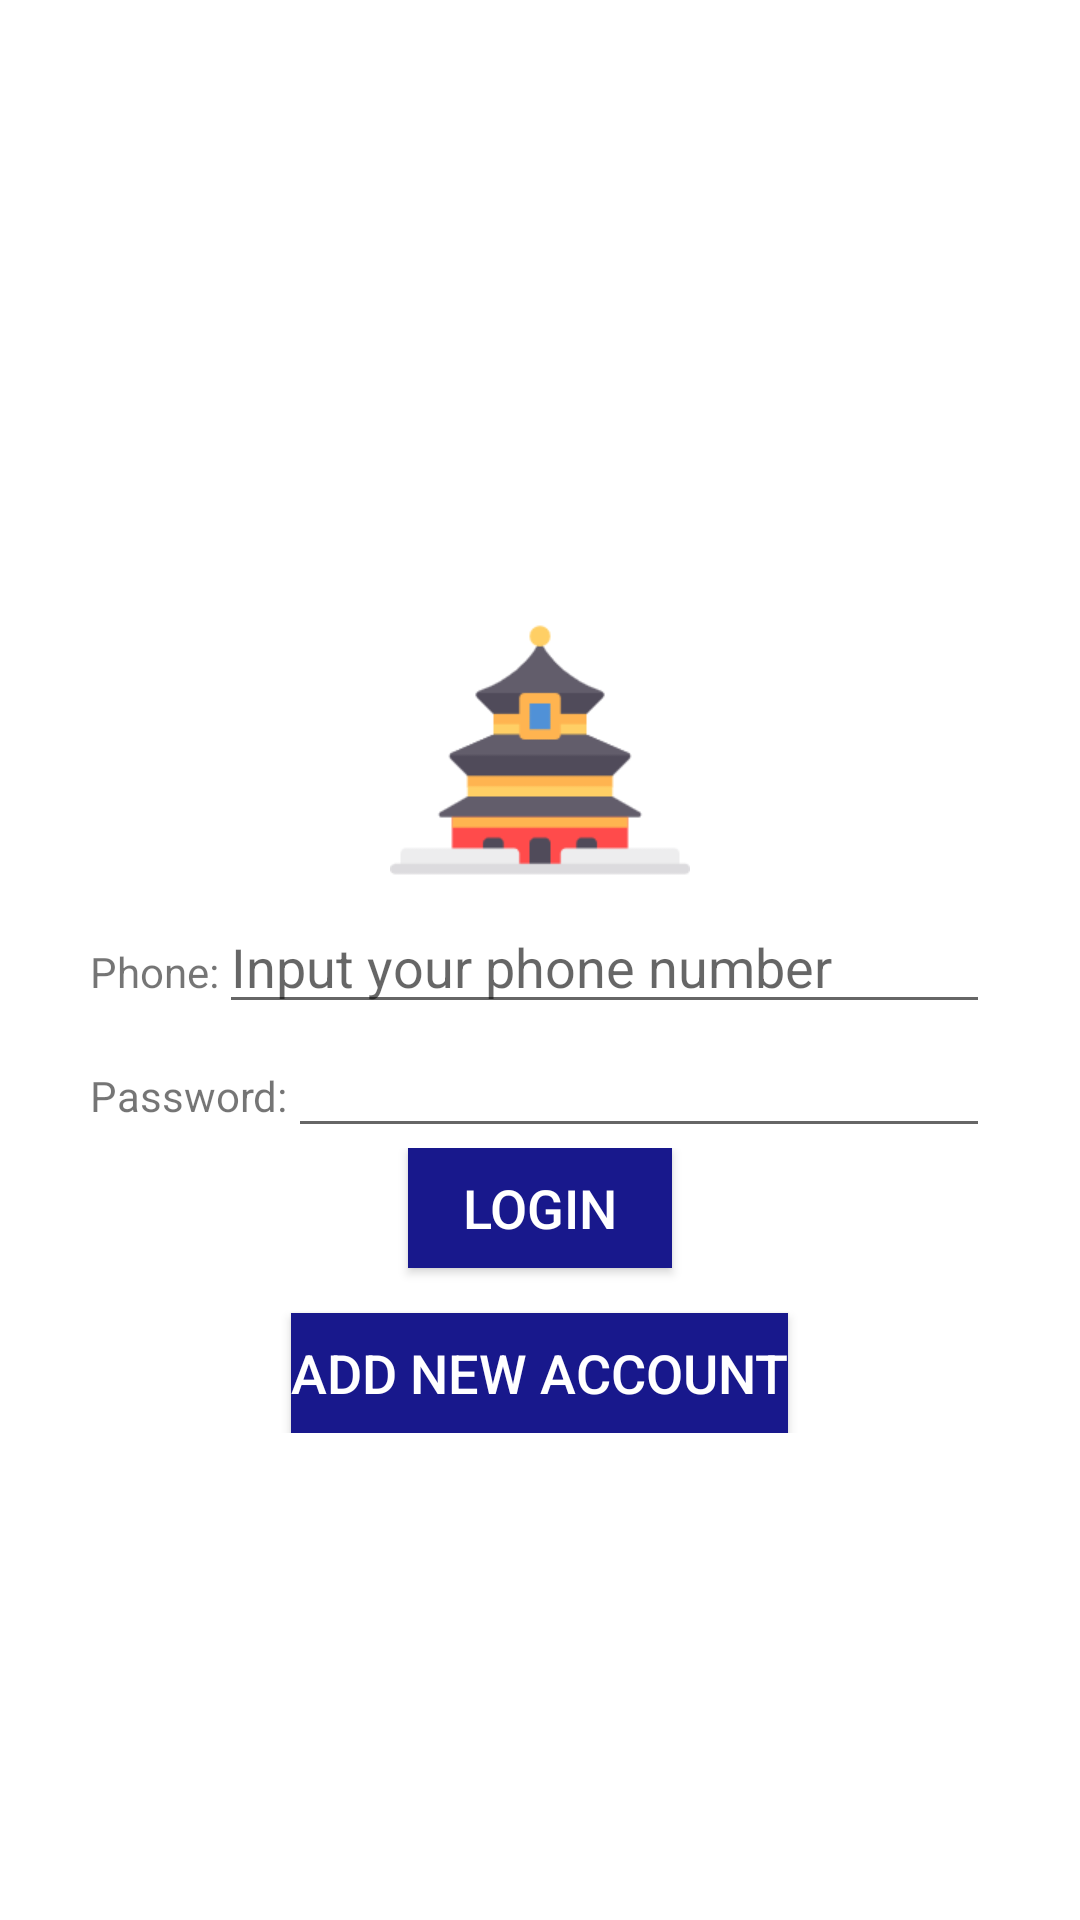

Where to tap for icons on this 1080x1920 app screen, as [x,y]:
forbidden city: [540,749]
